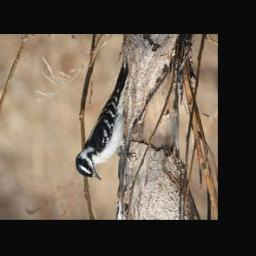Woodpecker: (75, 59, 136, 181)
